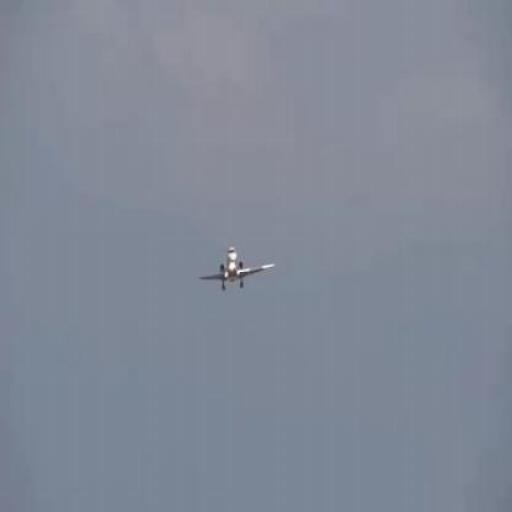aircraft: (197, 248, 277, 290)
